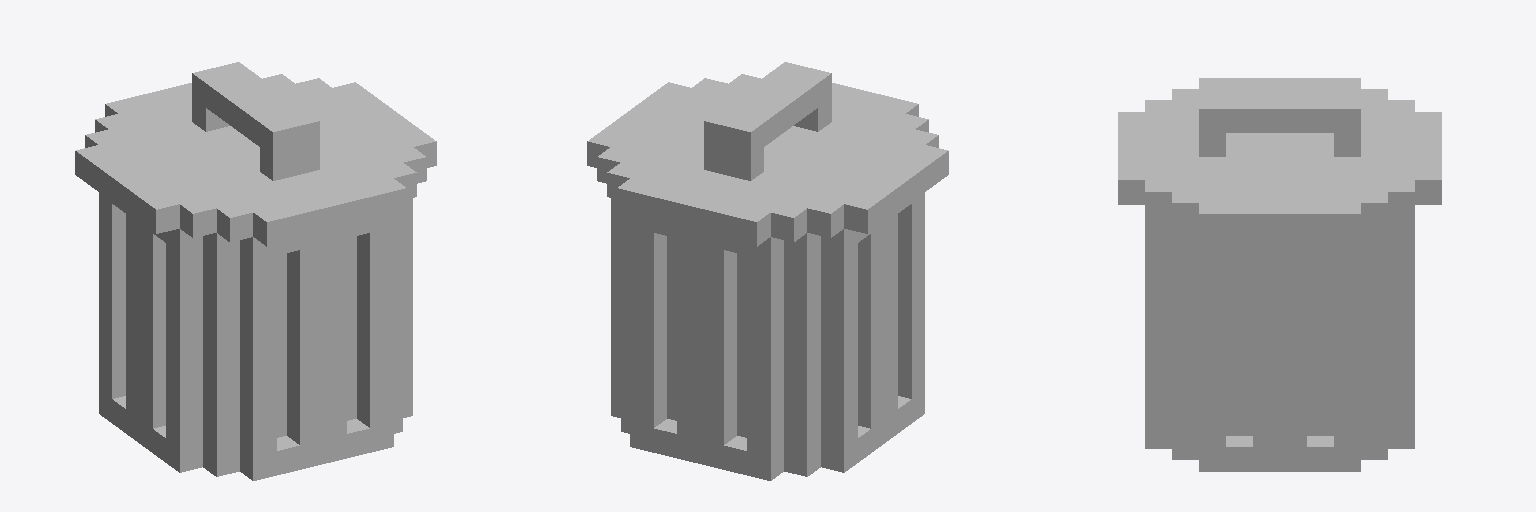
The model's file is obj_bin_large.obj.
The picture shows the model from 3 angles: view 1: azimuth 30°, elevation 25°; view 2: azimuth 150°, elevation 25°; view 3: azimuth 270°, elevation 25°; orthographic projection.
Visible parts, largest first — view 1: obj_bin_large; view 2: obj_bin_large; view 3: obj_bin_large.
Boxes of the visible parts, <box> form: obj_bin_large: <box>75,62,436,480</box>; obj_bin_large: <box>587,62,948,480</box>; obj_bin_large: <box>1118,78,1441,471</box>.
Size of the model in its own units: 12 by 13 by 12.